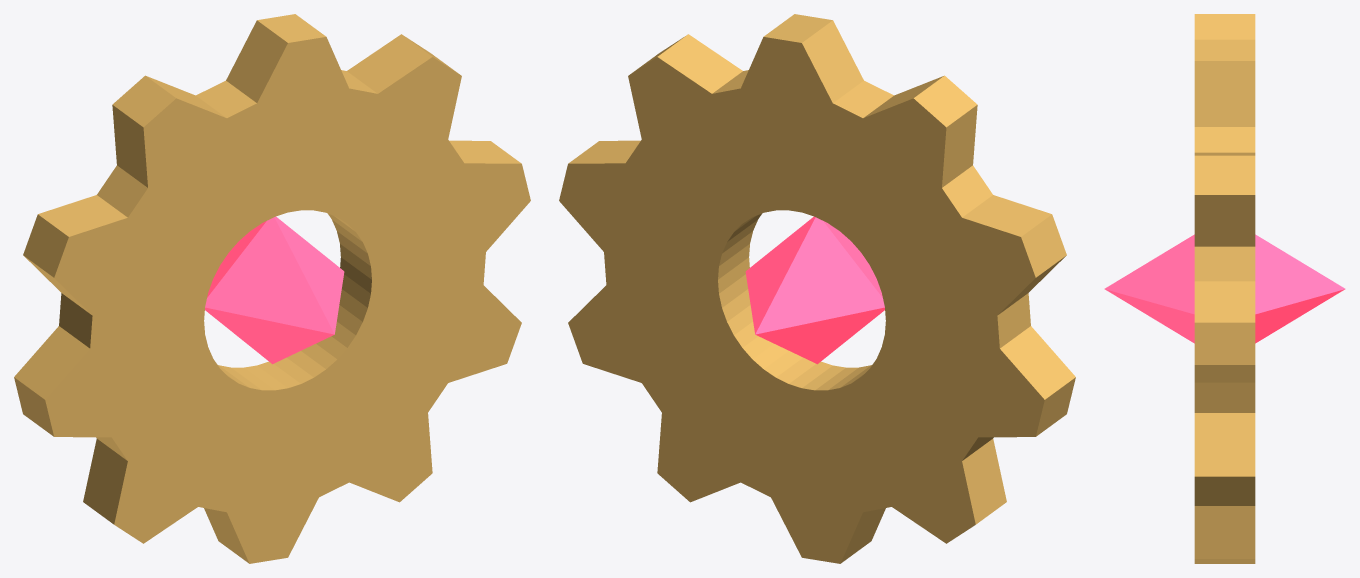
Rendered from station7_co2_laser.glb.
3 views of the same model, side by side, from view 1: azimuth 30°, elevation 25°; view 2: azimuth 150°, elevation 25°; view 3: azimuth 270°, elevation 25° (orthographic). The views are drawn at different scales.
Visible parts, largest first — view 1: StationArtifact; view 2: StationArtifact; view 3: StationArtifact.
Boxes of the visible parts, box(x1,y1,x2,y2) form: StationArtifact: box(14, 14, 530, 563); StationArtifact: box(559, 14, 1075, 563); StationArtifact: box(1104, 14, 1345, 563).
Size of the model in its own units: 0.8099 by 0.82 by 0.36.
